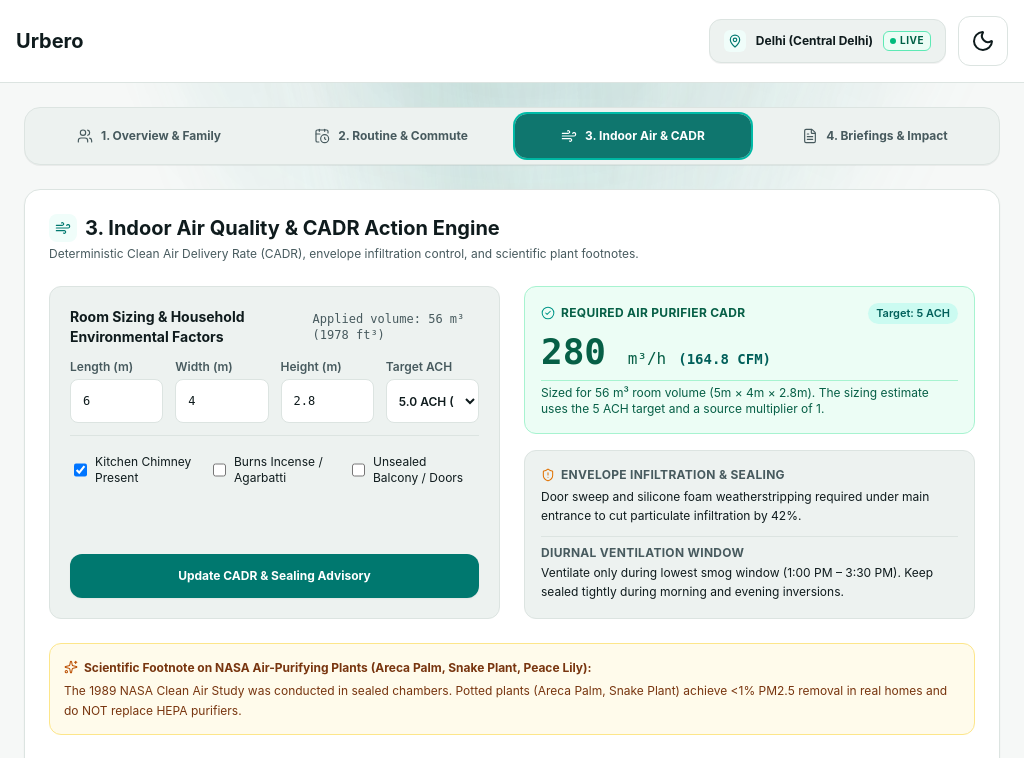
Test: App Integration & Accessibility › retries a failed room submission and ignores an older response without reloading the schedule
Earlier steps of the test are not shown.
Click the button "Update CADR & Sealing Advisory".
click(274, 576)  # box left=70, top=554, right=479, bottom=598
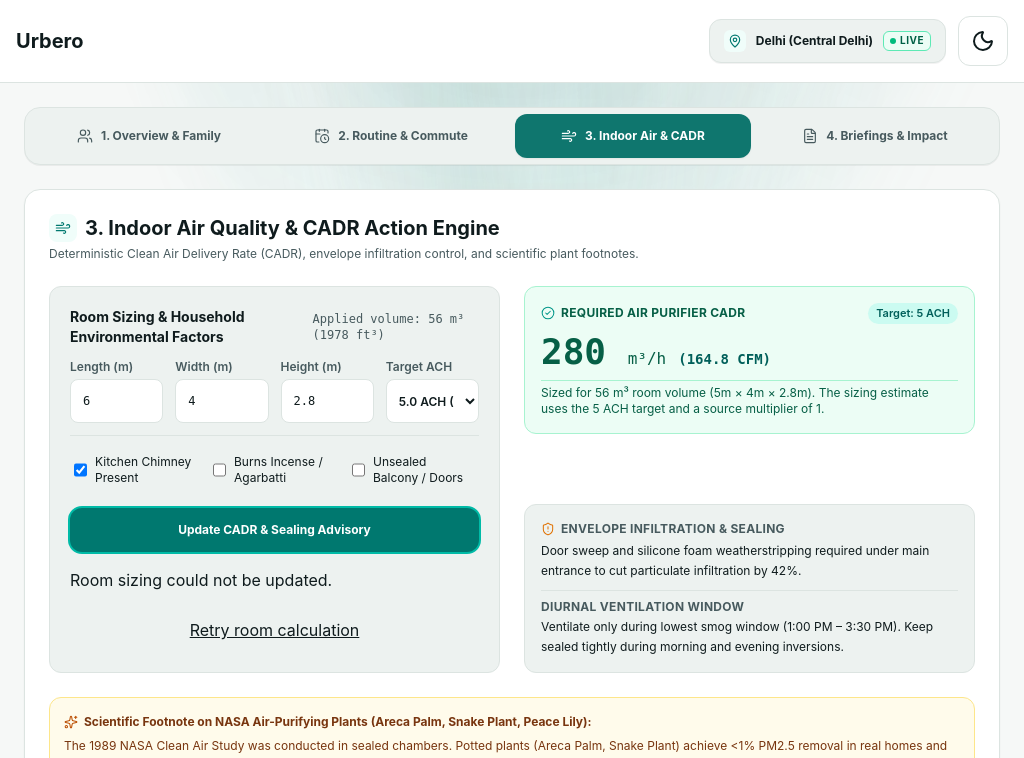
Expected: the text "Sized for 56 m³" is shown, left=541, top=380, right=958, bottom=416
Result: the message reads "Room sizing could not be updated." at left=70, top=570, right=332, bottom=590
Click the button "Retry room calculation".
click(274, 630)  # box left=70, top=608, right=479, bottom=652
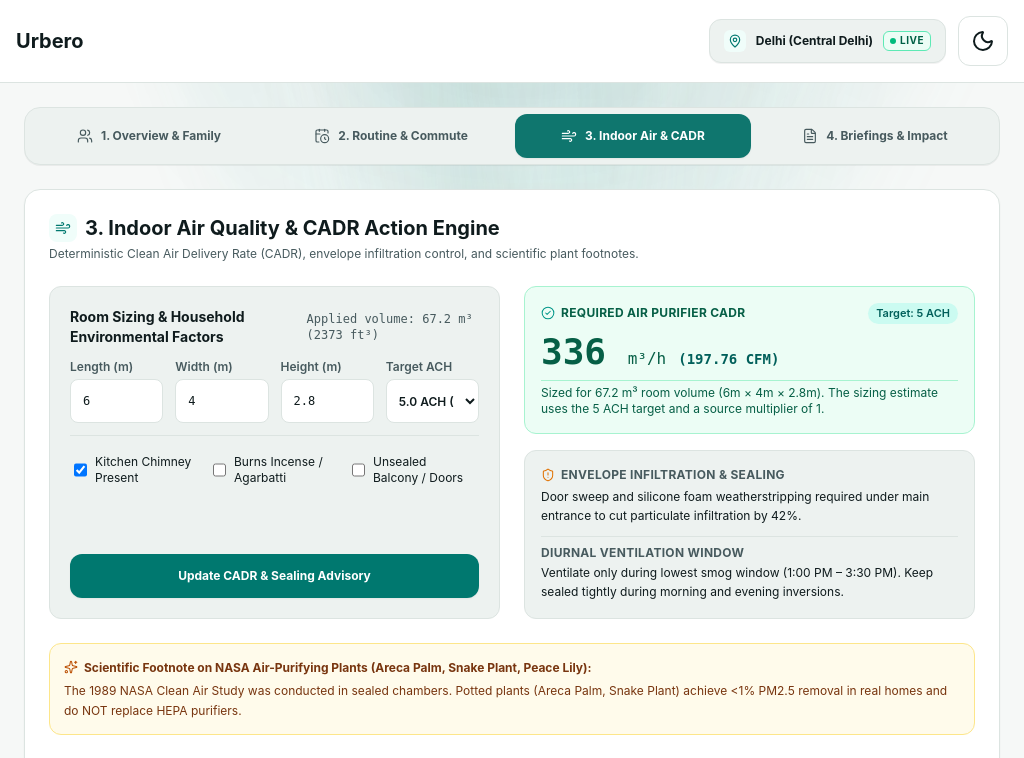
Result: the text "Sized for 67.2 m³" is shown at left=541, top=380, right=958, bottom=416
Result: the text "(197.76 CFM)" is shown at left=678, top=348, right=780, bottom=368
Replace the text in the number field labelled "Length (m)" with "7" at coordinates (117, 401), box left=70, top=379, right=163, bottom=423
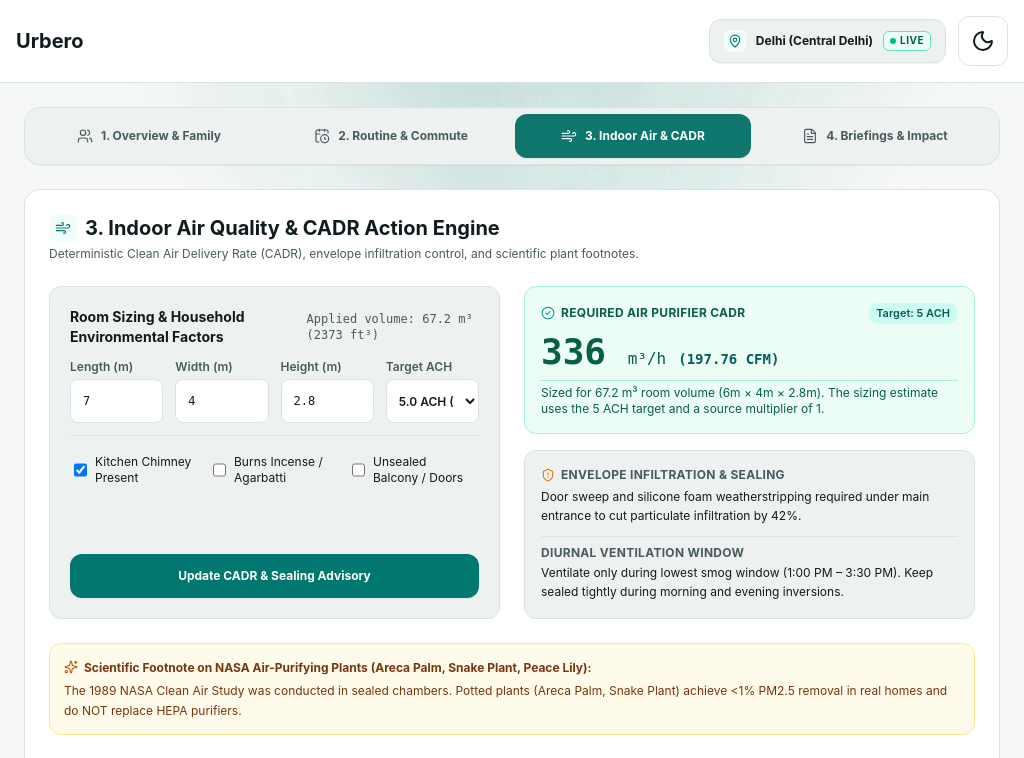
Click the button "Update CADR & Sealing Advisory".
click(274, 576)  # box left=70, top=554, right=479, bottom=598
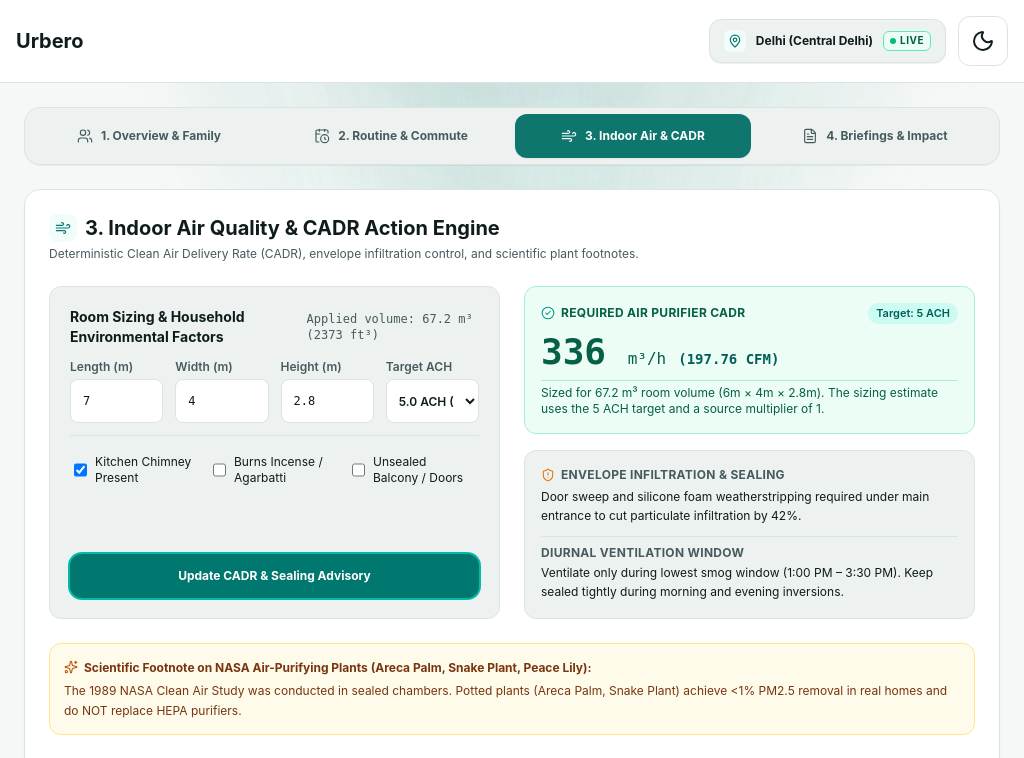
Replace the text in the number field labelled "Length (m)" with "8" at coordinates (117, 401), box left=70, top=379, right=163, bottom=423
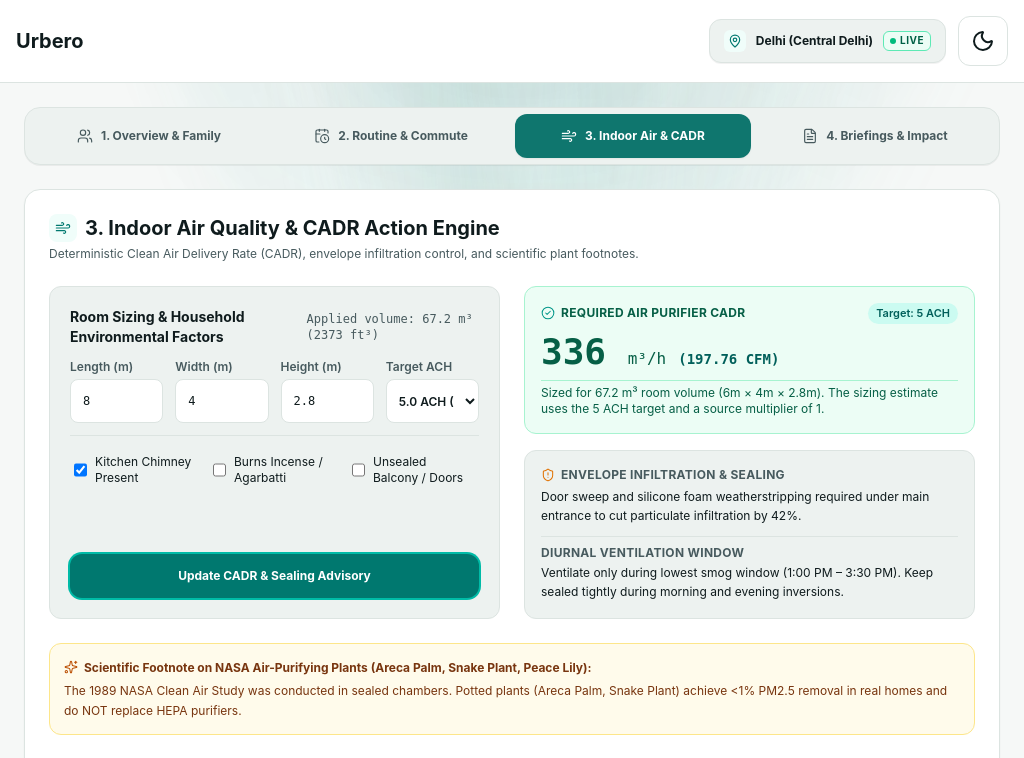
Click the button "Update CADR & Sealing Advisory".
click(274, 576)  # box left=70, top=554, right=479, bottom=598
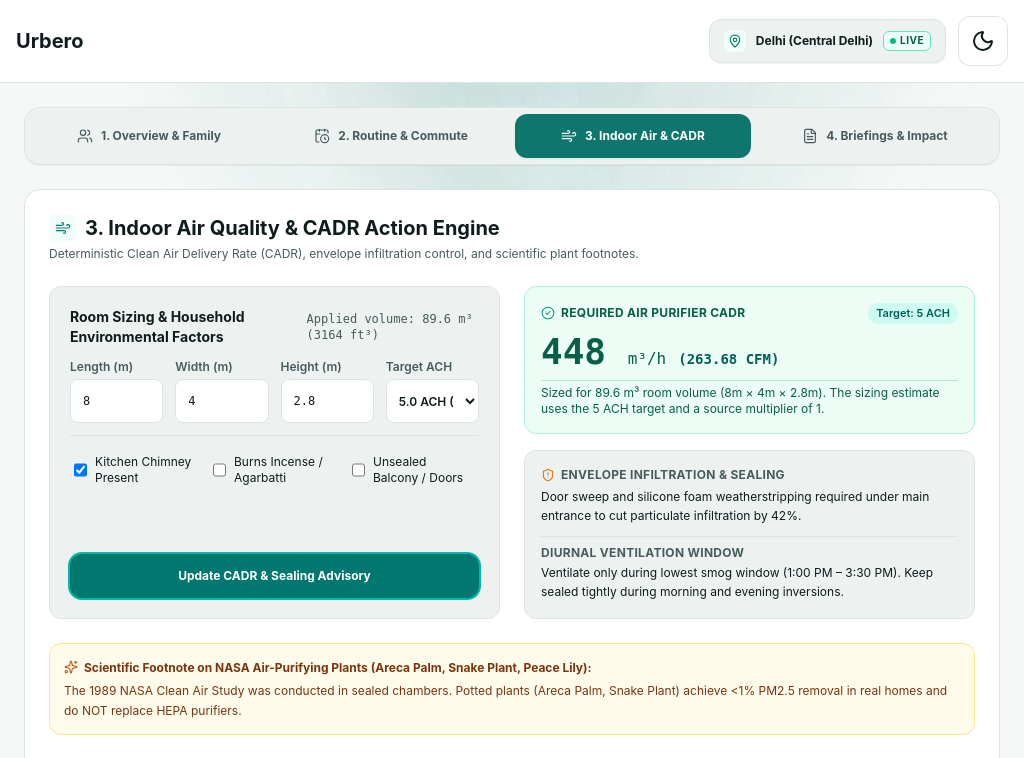
Result: the text "Sized for 89.6 m³" is shown at left=541, top=380, right=958, bottom=416
